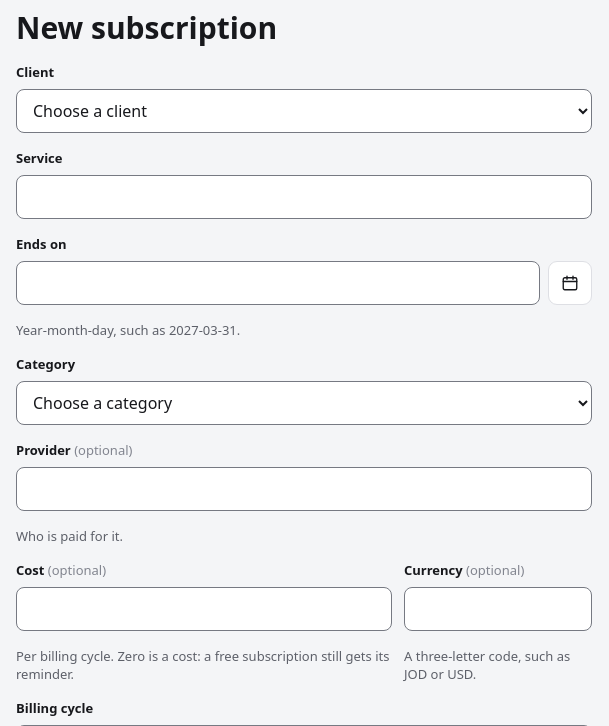
Test: creating a subscription › shows the subcategory only for a category that has some, and clears it when the category changes
expect the field labelled "Subcategory" is not shown: met
Select "Hosting" in the dropdown labelled "Category" at (304, 403), box x1=16 y1=381 x2=592 y2=425
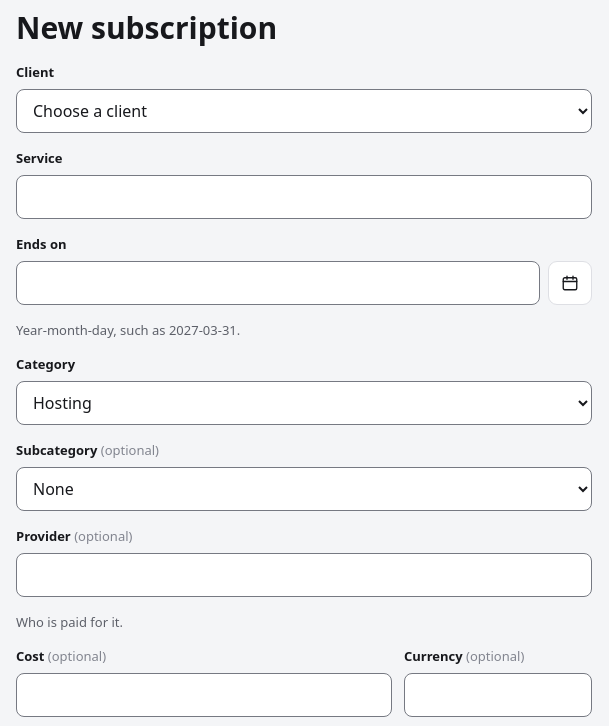
Select "VPS" in the dropdown labelled "Subcategory (optional)" at (304, 489), box x1=16 y1=467 x2=592 y2=511
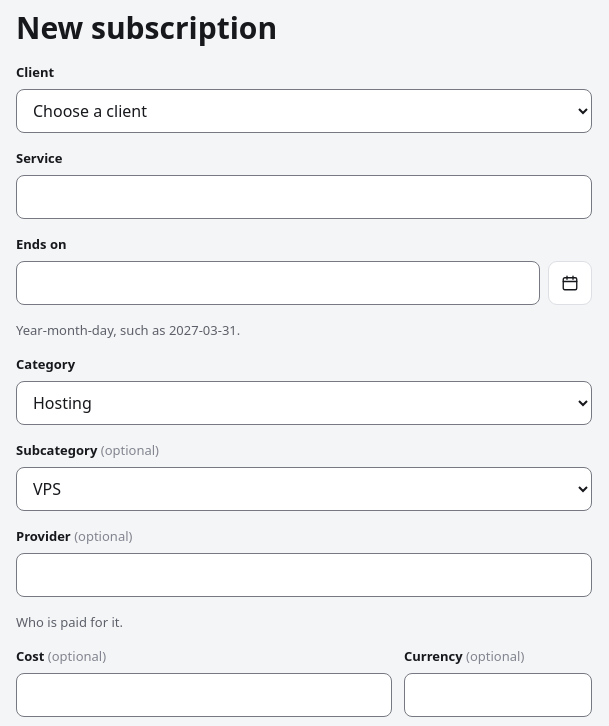
Select "Domains" in the dropdown labelled "Category" at (304, 403), box x1=16 y1=381 x2=592 y2=425
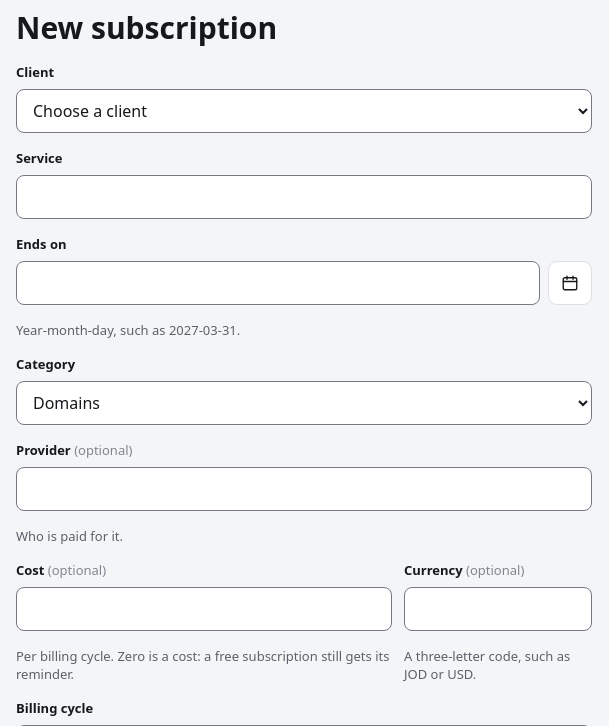
expect the label labelled "Subcategory" is gone: met
Select "Hosting" in the dropdown labelled "Category" at (304, 403), box x1=16 y1=381 x2=592 y2=425
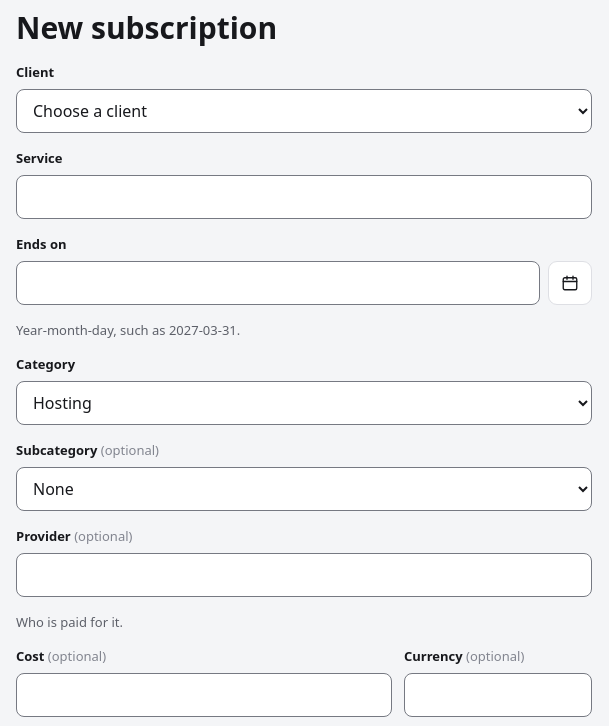
expect the dropdown labelled "Subcategory (optional)" shows "None": met, box x1=16 y1=467 x2=592 y2=511
